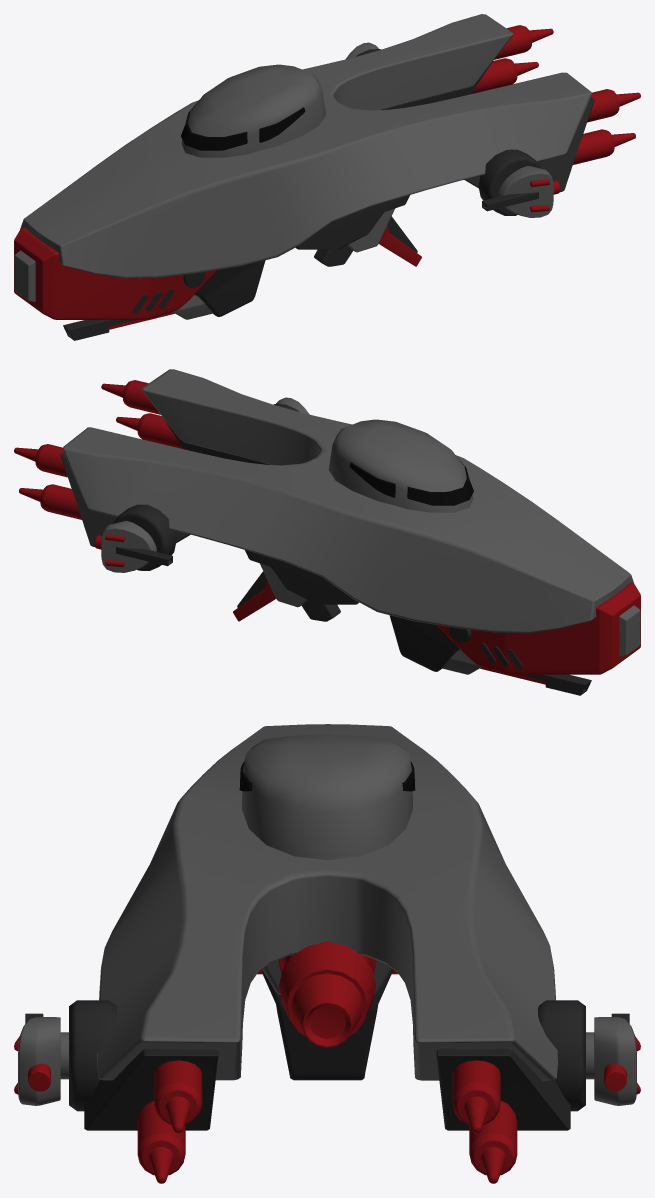
The model's file is Frigate_02.fbx.
The picture shows the model from 3 angles, top to bottom: view 1: azimuth 30°, elevation 25°; view 2: azimuth 150°, elevation 25°; view 3: azimuth 270°, elevation 25°; orthographic projection. The views are drawn at different scales.
Visible parts, largest first — view 1: Frigate_2; view 2: Frigate_2; view 3: Frigate_2.
Boxes of the visible parts, x1,y1,x2,y2 form: Frigate_2: [14, 14, 640, 340]; Frigate_2: [14, 369, 640, 695]; Frigate_2: [14, 724, 640, 1183].
Size of the model in its own units: 3938 by 1402 by 2176.
